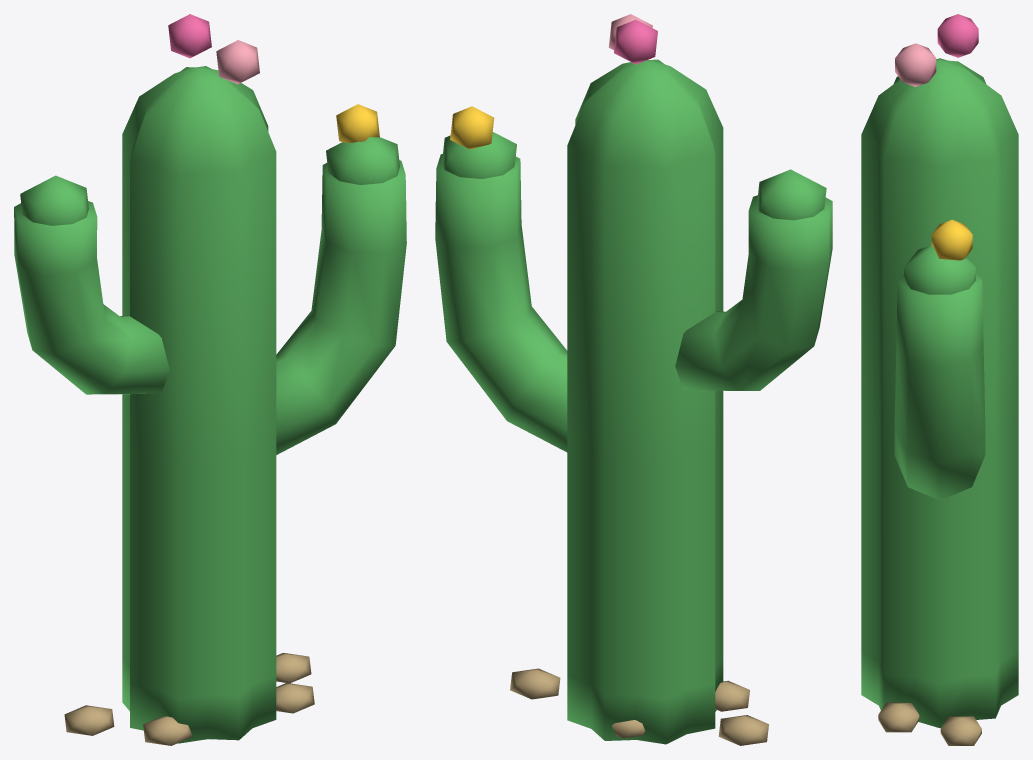
Rendered from cactus.glb.
The picture shows the model from 3 angles, left to right: view 1: azimuth 30°, elevation 25°; view 2: azimuth 150°, elevation 25°; view 3: azimuth 270°, elevation 25°; orthographic projection. The views are drawn at different scales.
Visible parts, largest first — view 1: cactus; view 2: cactus; view 3: cactus.
Part boxes in pixels (x1,y1,x2,y2): cactus: (14, 14, 406, 745); cactus: (435, 14, 832, 745); cactus: (861, 14, 1018, 745).
Bounding box in the file's own units: 0.7218 × 1.24 × 0.26.
Materials: 1 (1 with a texture image).
